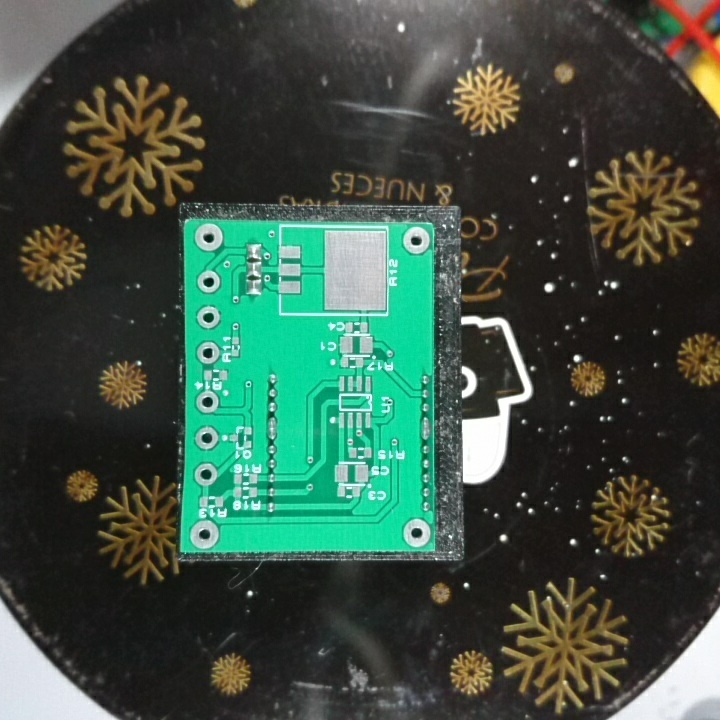F: (191, 221, 226, 254), (190, 514, 222, 549), (401, 227, 430, 258), (193, 340, 224, 367), (193, 422, 220, 453), (193, 303, 224, 329), (194, 389, 221, 418), (193, 459, 219, 489), (195, 268, 222, 295), (401, 517, 428, 543)
P: (263, 414, 281, 440), (417, 415, 434, 440)
